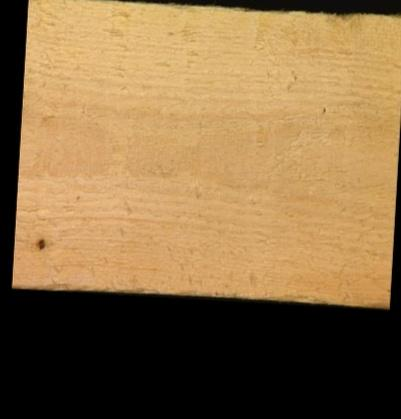small_knot: (32, 233, 47, 253)
wave: (246, 287, 331, 301)
